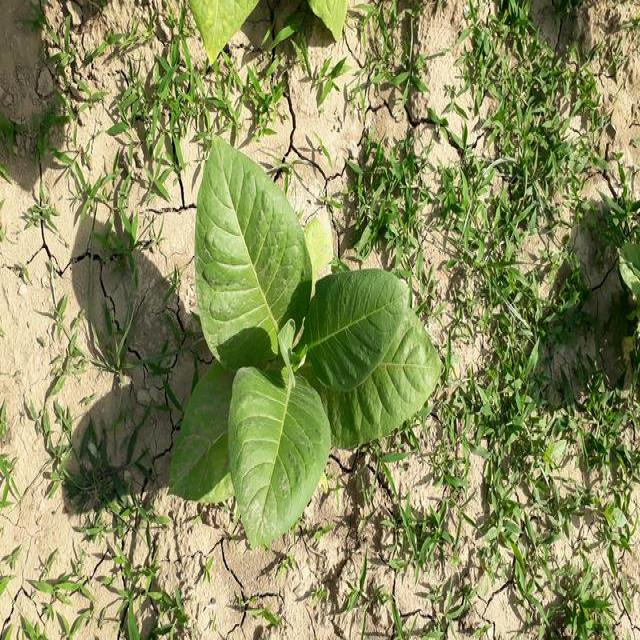crop: (195, 138, 447, 578)
